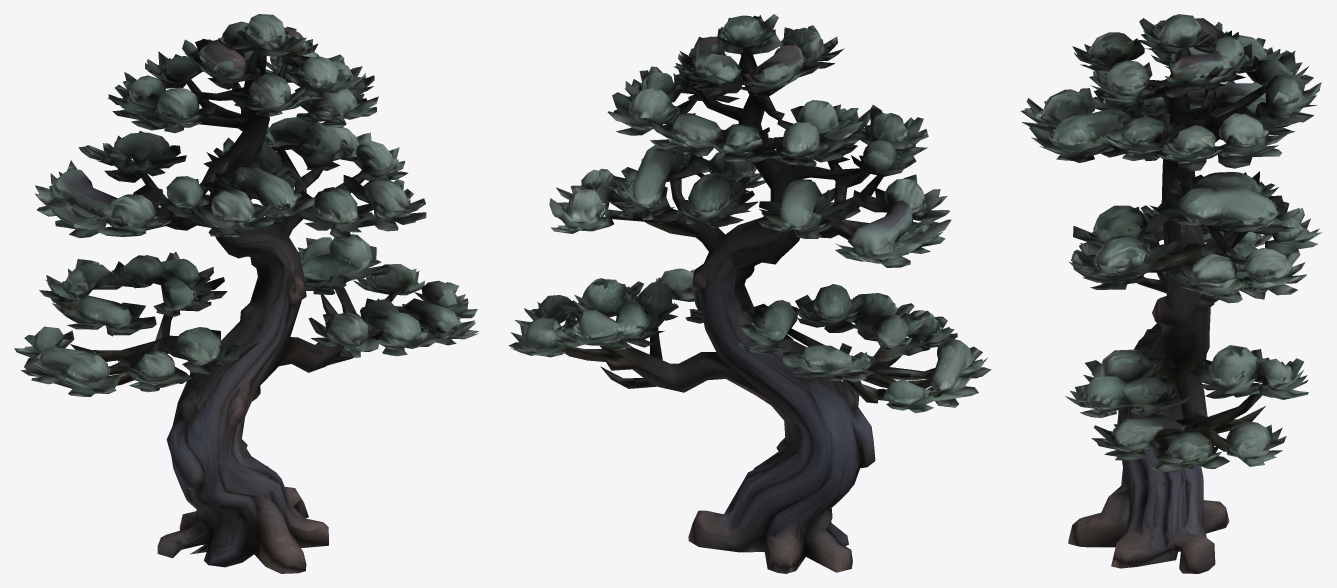
File: tree_pine_kuromatsu.glb
3 renders of one model, left to right at view 1: azimuth 30°, elevation 25°; view 2: azimuth 150°, elevation 25°; view 3: azimuth 270°, elevation 25°, orthographic. The views are drawn at different scales.
Visible parts, largest first — view 1: node_0; view 2: node_0; view 3: node_0.
Part boxes in pixels (box(x1,y1,x2,y2)): node_0: box(14, 14, 478, 573); node_0: box(508, 14, 991, 573); node_0: box(1020, 14, 1321, 573).
Size of the model in its own units: 6.25 by 7 by 3.58.
Materials: 1 (1 with a texture image).
